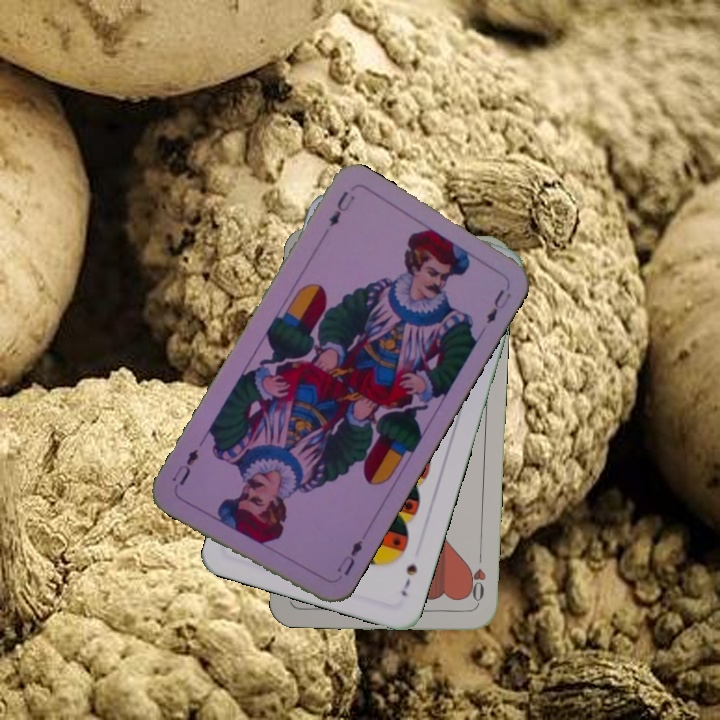EU: (325, 186, 358, 230), (333, 536, 365, 578)
HO: (463, 549, 489, 608)
S7: (397, 560, 420, 599)
